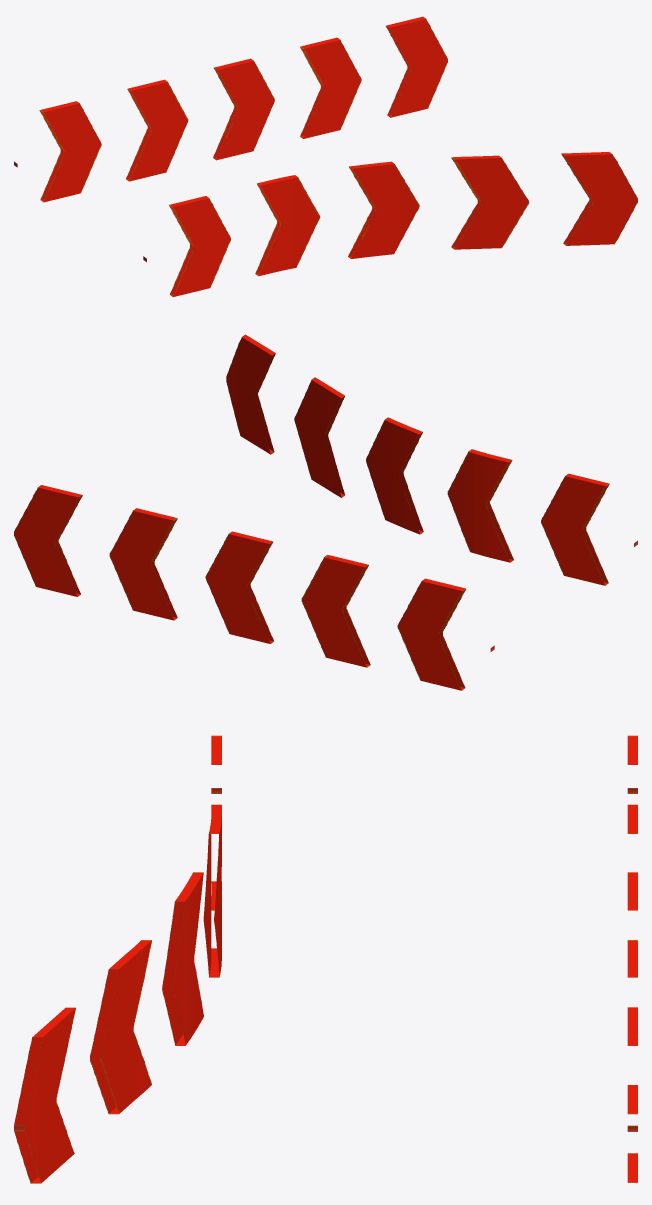
The model's file is directional-arrow-3.fbx.
The picture shows the model from 3 angles, top to bottom: view 1: azimuth 30°, elevation 25°; view 2: azimuth 150°, elevation 25°; view 3: azimuth 270°, elevation 25°; orthographic projection. The views are drawn at different scales.
Parts seen in each view (by area): view 1: Object_8.001, Object_8; view 2: Object_8, Object_8.001; view 3: Object_8.001, Object_8.
Boxes of the visible parts, x1,y1,x2,y2 form: Object_8.001: [143, 152, 637, 296]; Object_8: [14, 16, 447, 202]; Object_8: [14, 485, 494, 690]; Object_8.001: [226, 334, 637, 585]; Object_8.001: [14, 735, 221, 1183]; Object_8: [627, 735, 637, 1182].
Bounding box in the file's own units: 1000 × 200 × 781.
1 material, 1 textured.
